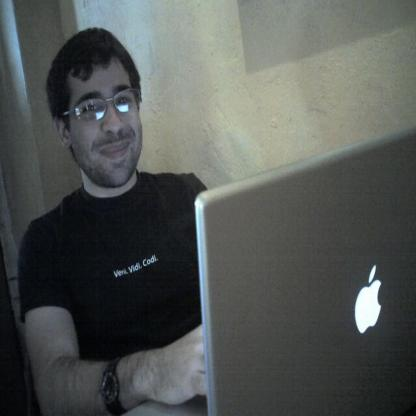board: (180, 106, 416, 416)
